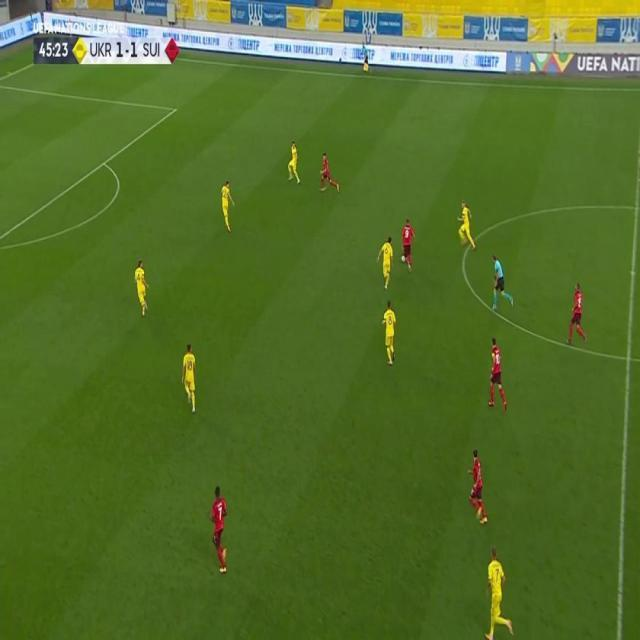ball: (401, 254, 407, 264)
player: (480, 547, 516, 640), (207, 485, 231, 574), (465, 447, 488, 525), (485, 338, 509, 411), (565, 281, 588, 346), (181, 343, 198, 414), (456, 199, 478, 251), (381, 301, 397, 366), (133, 258, 150, 318), (318, 151, 340, 195), (376, 236, 393, 291), (219, 178, 236, 233), (402, 218, 416, 273), (286, 141, 302, 185)
referee: (490, 253, 514, 310), (361, 42, 370, 75)
